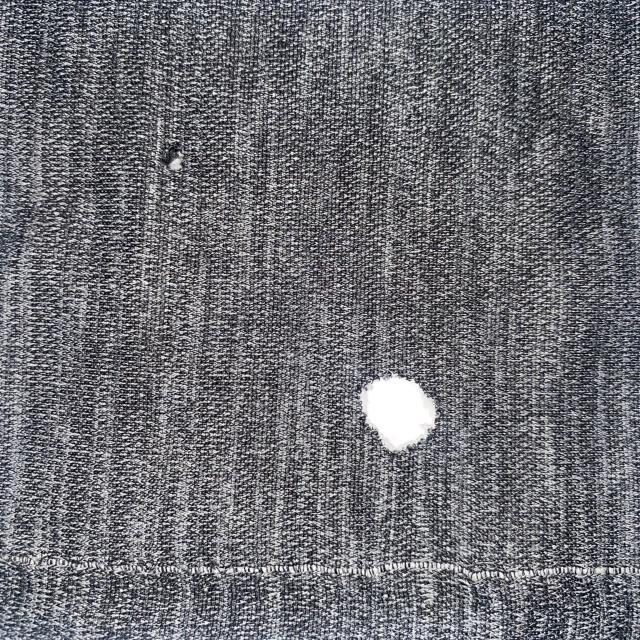Hole: (356, 368, 444, 456)
Knot: (162, 141, 188, 176)
Line: (0, 550, 640, 581)
